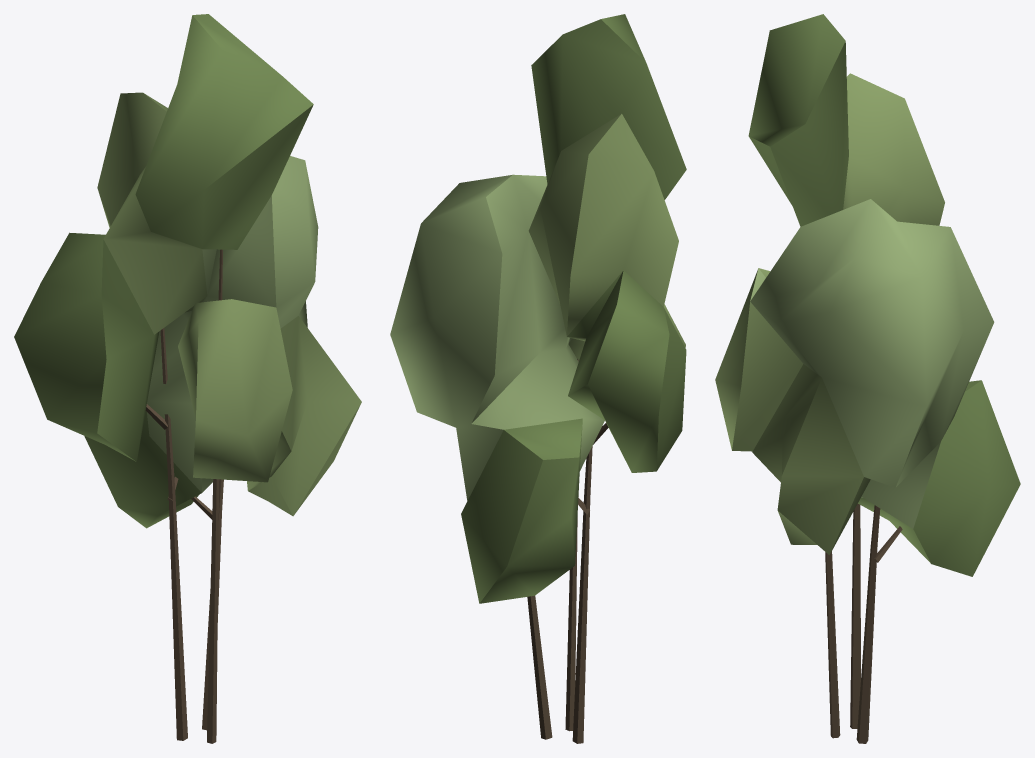
3 renders of one model, left to right at view 1: azimuth 30°, elevation 25°; view 2: azimuth 150°, elevation 25°; view 3: azimuth 270°, elevation 25°, orthographic. The views are drawn at different scales.
Visible parts, largest first — view 1: Лиственная поросль; view 2: Лиственная поросль; view 3: Лиственная поросль.
Boxes of the visible parts, x1,y1,x2,y2 form: Лиственная поросль: [14, 14, 361, 743]; Лиственная поросль: [390, 14, 686, 743]; Лиственная поросль: [715, 14, 1020, 743].
Bounding box in the file's own units: 4.23 × 10.52 × 4.1.
